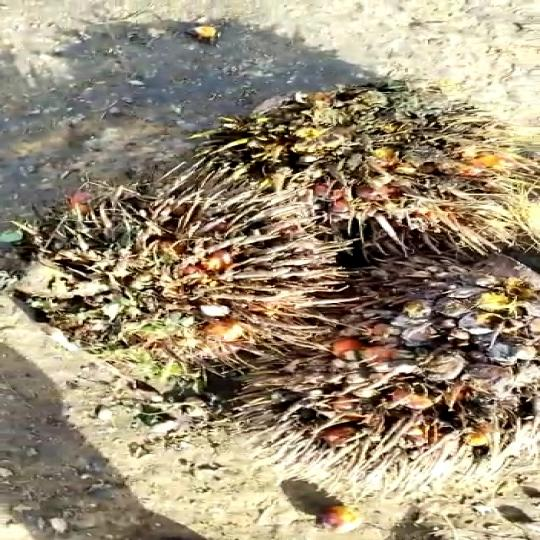terlalu masak: (199, 240, 540, 468), (0, 188, 347, 364), (176, 82, 540, 219)
